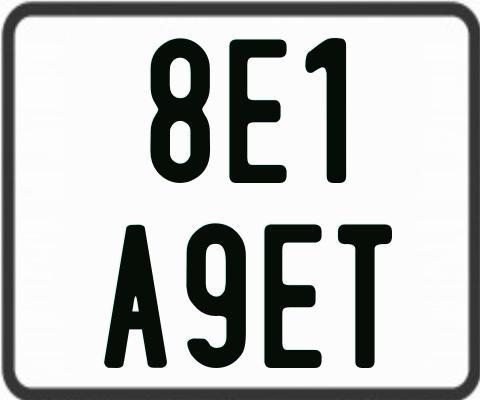1: (304, 35, 348, 185)
8: (150, 36, 210, 181)
9: (183, 221, 243, 366)
A: (102, 223, 170, 370)
E: (228, 39, 288, 186), (261, 223, 322, 367)
T: (337, 223, 396, 371)
